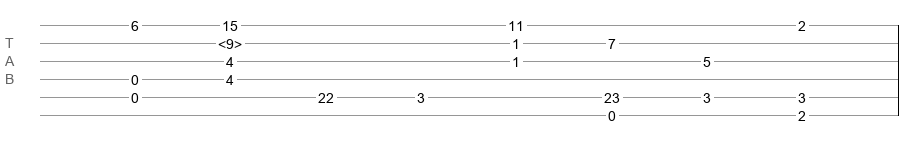0: (131, 72, 139, 82), (131, 90, 139, 100), (608, 108, 616, 118)
1: (512, 54, 520, 64), (512, 36, 520, 46)
11: (508, 18, 524, 28)
15: (222, 18, 238, 28)
2: (798, 18, 806, 28), (798, 108, 806, 118)
22: (318, 90, 334, 100)
23: (604, 90, 620, 100)
3: (417, 90, 425, 100), (703, 90, 711, 100), (798, 90, 806, 100)
4: (226, 54, 234, 64), (226, 72, 234, 82)
5: (703, 54, 711, 64)
6: (131, 18, 139, 28)
7: (608, 36, 616, 46)
harmonic: (218, 36, 242, 46)
